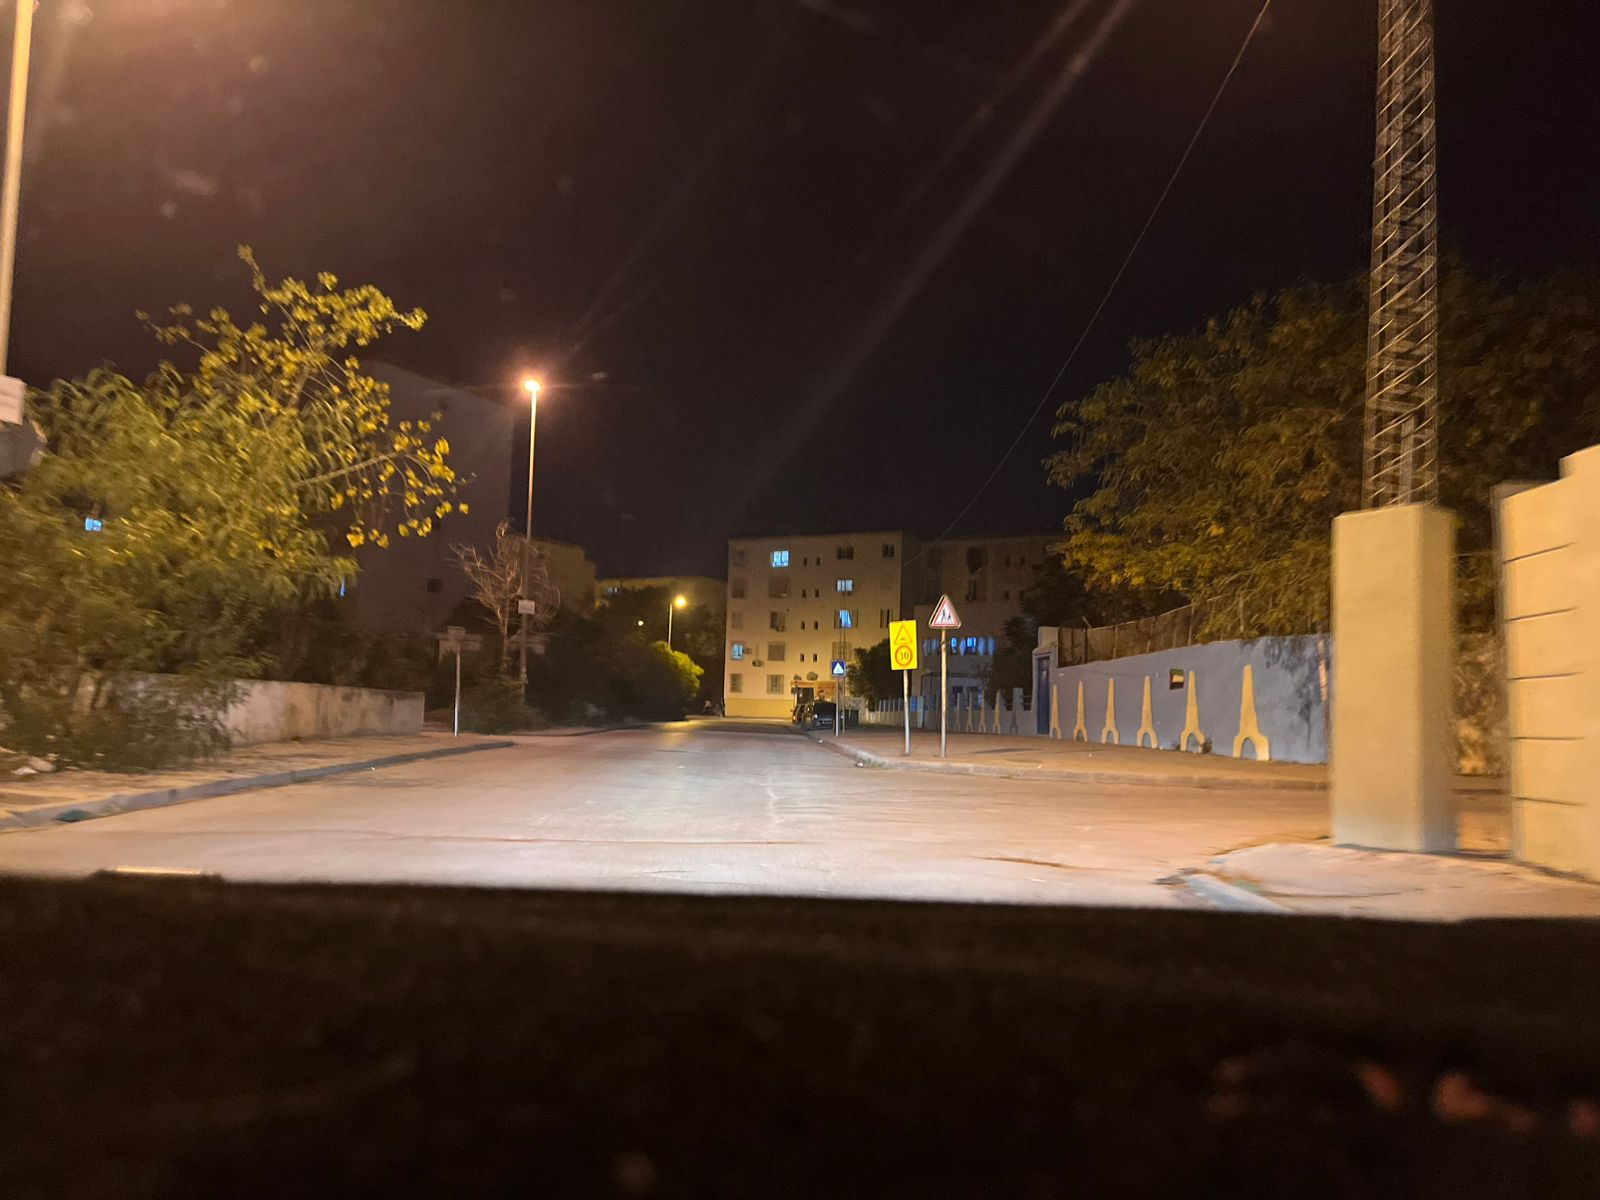SpeedLimit30: (889, 619, 918, 671)
